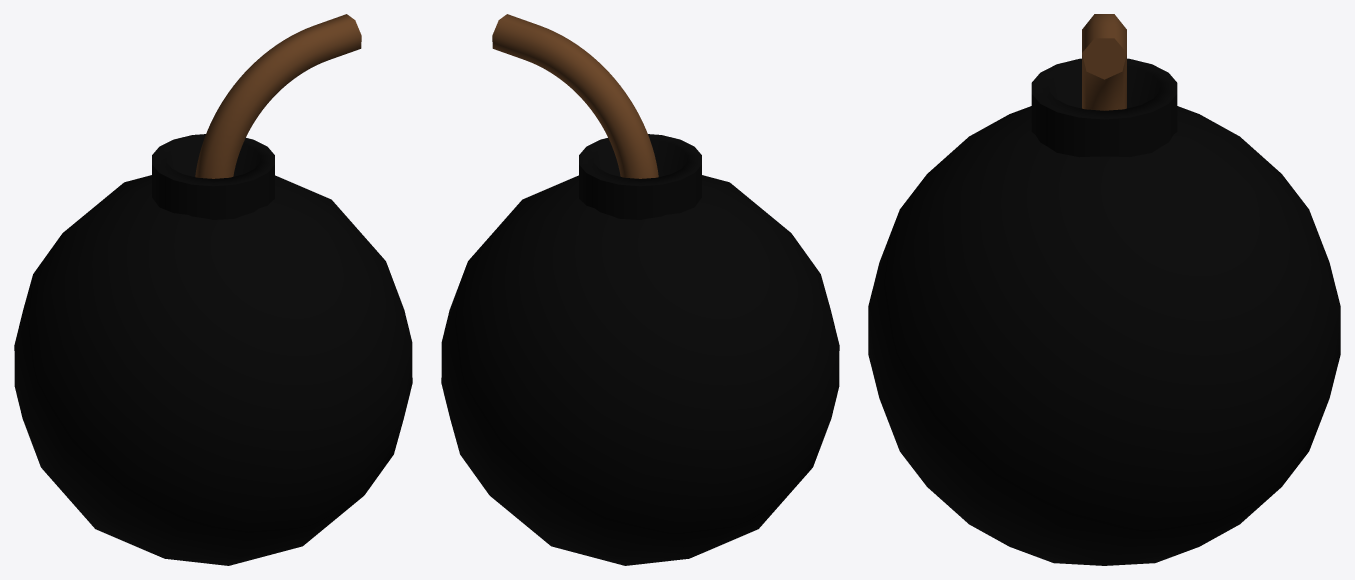
The model's file is bomb.fbx.
The picture shows the model from 3 angles, left to right: view 1: azimuth 30°, elevation 25°; view 2: azimuth 150°, elevation 25°; view 3: azimuth 270°, elevation 25°; orthographic projection. The views are drawn at different scales.
Parts seen in each view (by area): view 1: Cylinder001; view 2: Cylinder001; view 3: Cylinder001.
Boxes of the visible parts, x1=… form: Cylinder001: x1=14, y1=14, x2=412, y2=565; Cylinder001: x1=441, y1=14, x2=839, y2=565; Cylinder001: x1=868, y1=14, x2=1340, y2=565.
Bounding box in the file's own units: 16.1 × 22.11 × 16.06.
